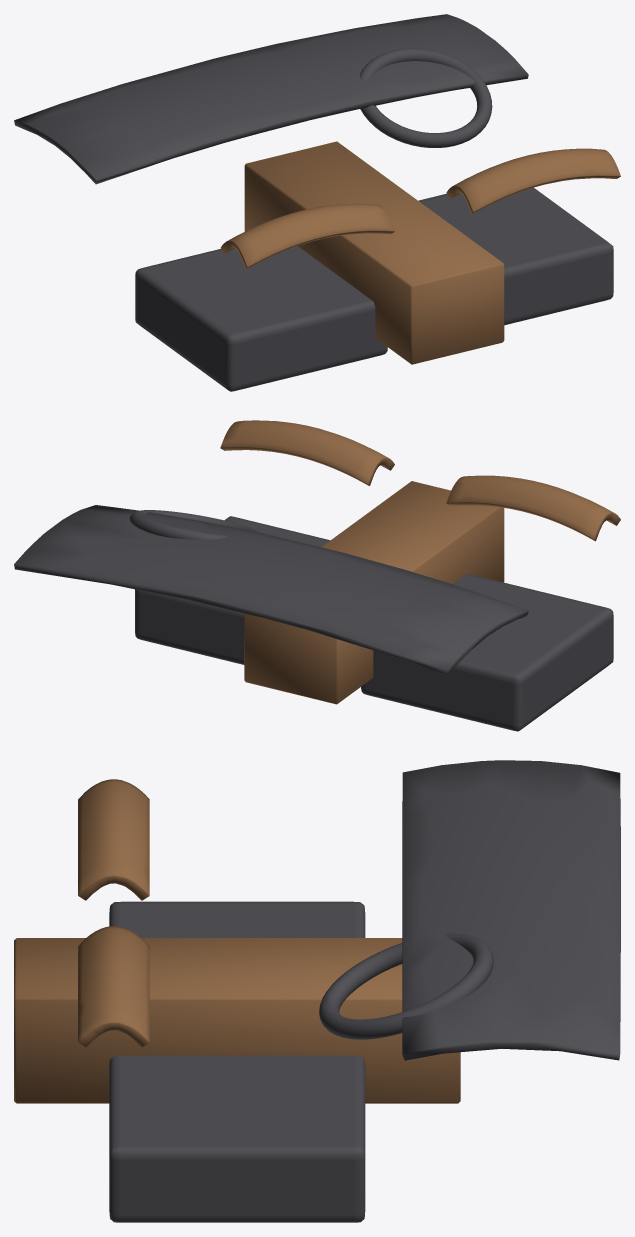
File: interior_cockpit.glb
3 renders of one model, top to bottom at view 1: azimuth 30°, elevation 25°; view 2: azimuth 150°, elevation 25°; view 3: azimuth 270°, elevation 25°, orthographic. The views are drawn at different scales.
Visible parts, largest first — view 1: INT_DASHBOARD, INT_CENTER_CONSOLE, INT_SEAT_BASE_PASSENGER, INT_SEAT_BASE_DRIVER, INT_SEAT_BACK_DRIVER, INT_SEAT_BACK_PASSENGER, INT_STEERING_WHEEL; view 2: INT_DASHBOARD, INT_CENTER_CONSOLE, INT_SEAT_BASE_PASSENGER, INT_SEAT_BASE_DRIVER, INT_SEAT_BACK_PASSENGER, INT_SEAT_BACK_DRIVER, INT_STEERING_WHEEL; view 3: INT_DASHBOARD, INT_CENTER_CONSOLE, INT_SEAT_BASE_DRIVER, INT_SEAT_BASE_PASSENGER, INT_SEAT_BACK_DRIVER, INT_SEAT_BACK_PASSENGER, INT_STEERING_WHEEL.
Part boxes in pixels (<box>): INT_DASHBOARD: <box>14,14,528,184</box>; INT_CENTER_CONSOLE: <box>244,141,504,364</box>; INT_SEAT_BASE_PASSENGER: <box>135,246,387,391</box>; INT_SEAT_BASE_DRIVER: <box>418,187,613,325</box>; INT_SEAT_BACK_DRIVER: <box>446,148,620,214</box>; INT_SEAT_BACK_PASSENGER: <box>220,203,394,269</box>; INT_STEERING_WHEEL: <box>360,48,492,147</box>; INT_DASHBOARD: <box>14,505,528,674</box>; INT_CENTER_CONSOLE: <box>244,481,504,704</box>; INT_SEAT_BASE_PASSENGER: <box>361,574,613,731</box>; INT_SEAT_BASE_DRIVER: <box>135,516,329,664</box>; INT_SEAT_BACK_PASSENGER: <box>446,475,620,541</box>; INT_SEAT_BACK_DRIVER: <box>220,420,394,485</box>; INT_STEERING_WHEEL: <box>129,510,260,539</box>; INT_DASHBOARD: <box>402,760,620,1060</box>; INT_CENTER_CONSOLE: <box>14,938,460,1103</box>; INT_SEAT_BASE_DRIVER: <box>109,1055,365,1222</box>; INT_SEAT_BASE_PASSENGER: <box>109,901,365,937</box>; INT_SEAT_BACK_DRIVER: <box>78,926,149,1047</box>; INT_SEAT_BACK_PASSENGER: <box>78,779,149,900</box>; INT_STEERING_WHEEL: <box>319,933,493,1039</box>.
Bounding box in the file's own units: 1.46 × 0.5335 × 1.33.
